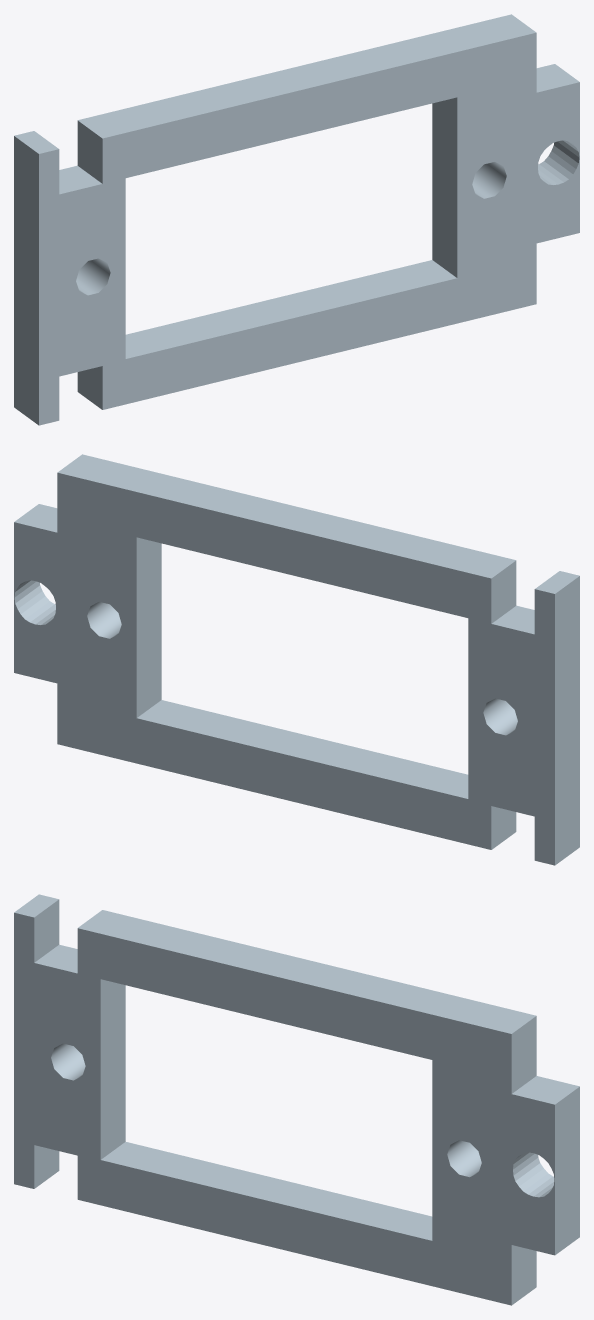
Rendered from prt0012.obj.
The picture shows the model from 3 angles, top to bottom: view 1: azimuth 30°, elevation 25°; view 2: azimuth 150°, elevation 25°; view 3: azimuth 330°, elevation 25°; orthographic projection.
Visible parts, largest first — view 1: 1; view 2: 1; view 3: 1.
Part boxes in pixels (<box>): 1: <box>14,14,579,425</box>; 1: <box>14,454,579,865</box>; 1: <box>14,894,579,1305</box>.
Bounding box in the file's own units: 37.51 × 17.99 × 3.
